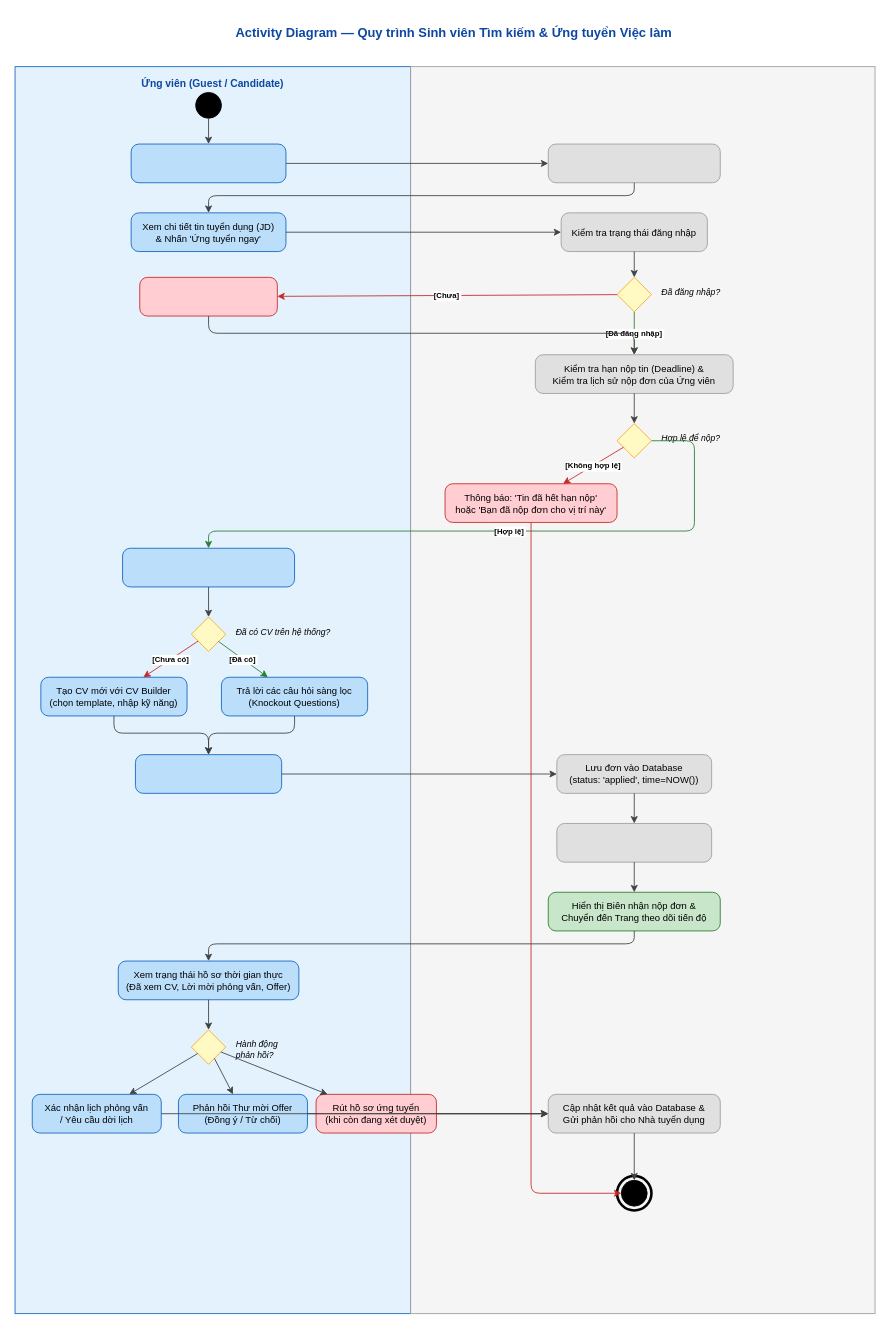
The diagram is 890 pixels wide and 1329 high, and some of its shapes have lost their labels. The box of each missing label's shape, as (x1, y1, x2, y2) in pixels:
Hệ thống (EasyInternshipp Platform): (410, 66, 875, 1314)
Mở Modal Ứng tuyển: Chọn phiên bản CV & Viết thư giới thiệu: (122, 547, 295, 587)
Nhấn 'Nộp đơn ứng tuyển': (135, 754, 282, 793)
Truy cập trang việc làm & Tìm kiếm, Lọc theo tiêu chí: (130, 143, 286, 183)
Truy vấn tin tuyển dụng hợp lệ (status: 'active' & deadline > NOW()): (547, 143, 720, 183)
Đăng nhập / Đăng ký (chuyển hướng an toàn): (139, 276, 277, 316)
Đẩy thông báo tức thời & email đến Nhà tuyển dụng: (556, 823, 712, 862)
